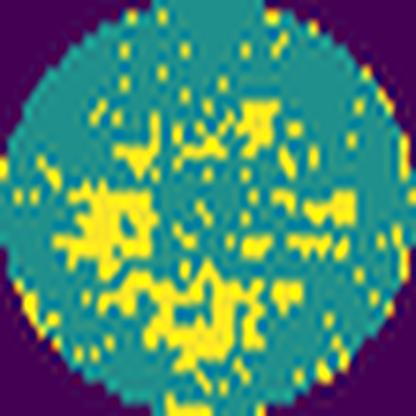Donut: (45, 80, 361, 399)
